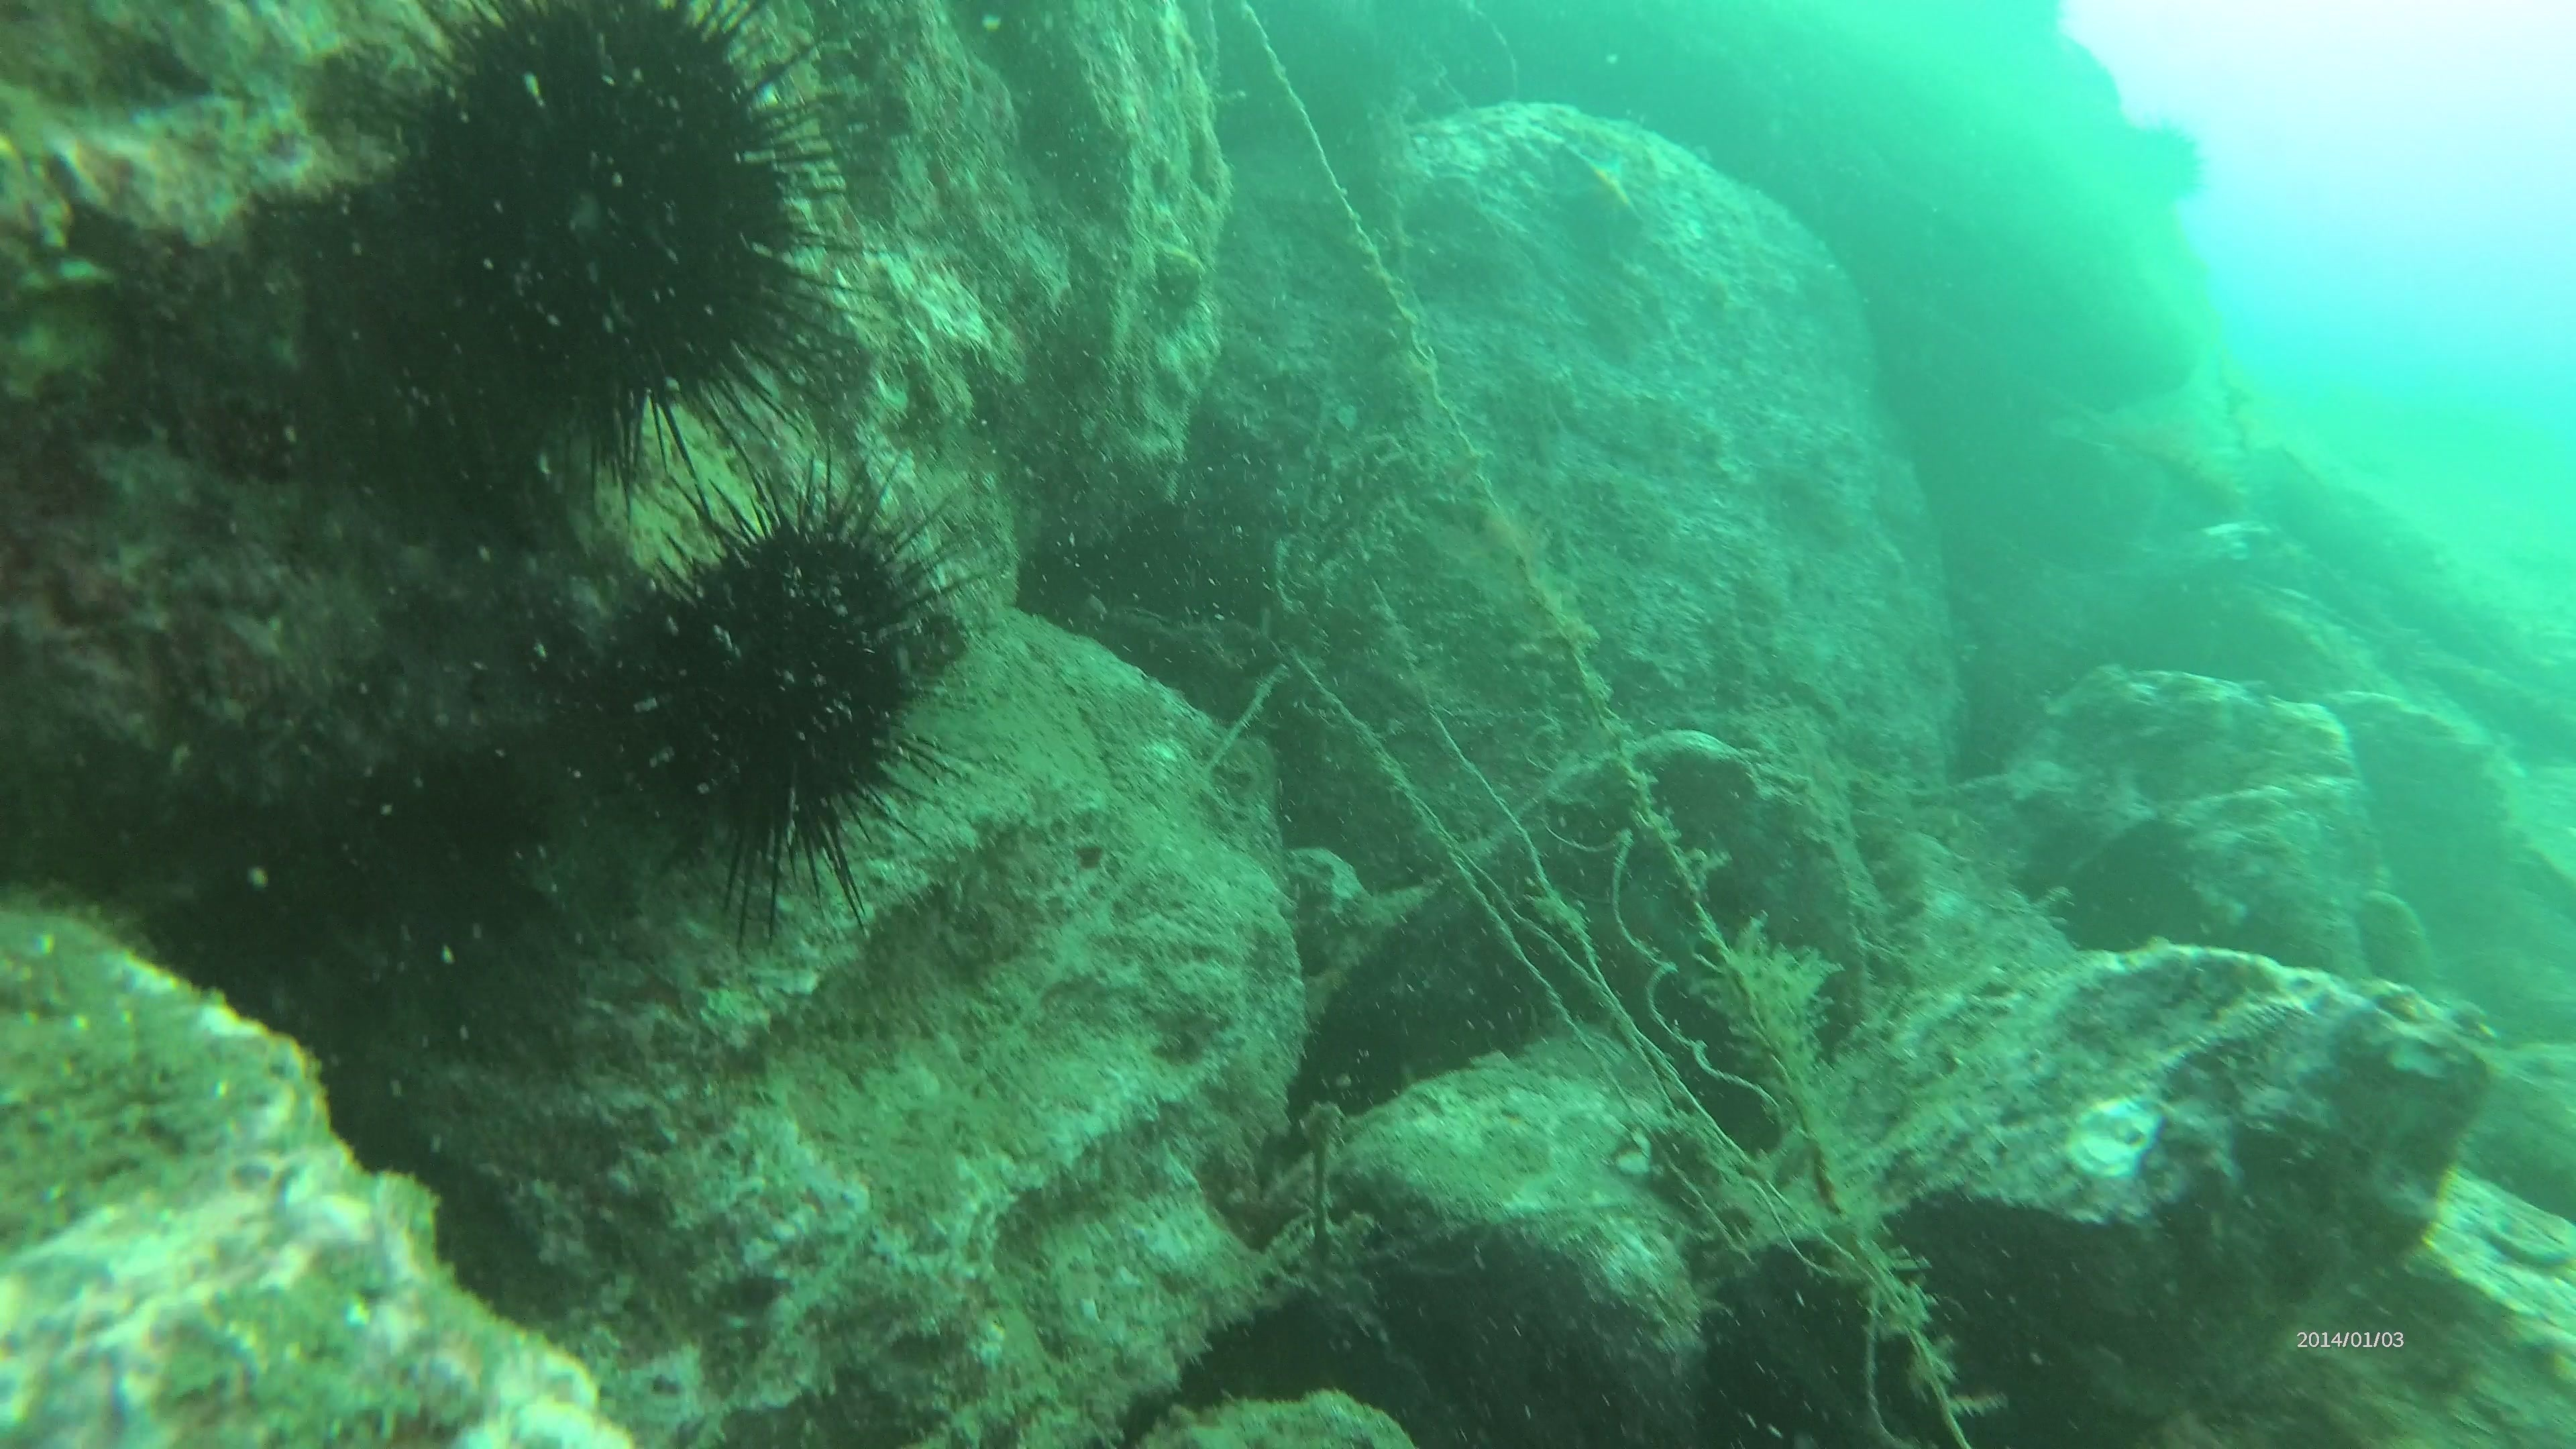echinus: (380, 4, 844, 483), (575, 458, 962, 911)
starfish: (1539, 133, 1660, 265)
